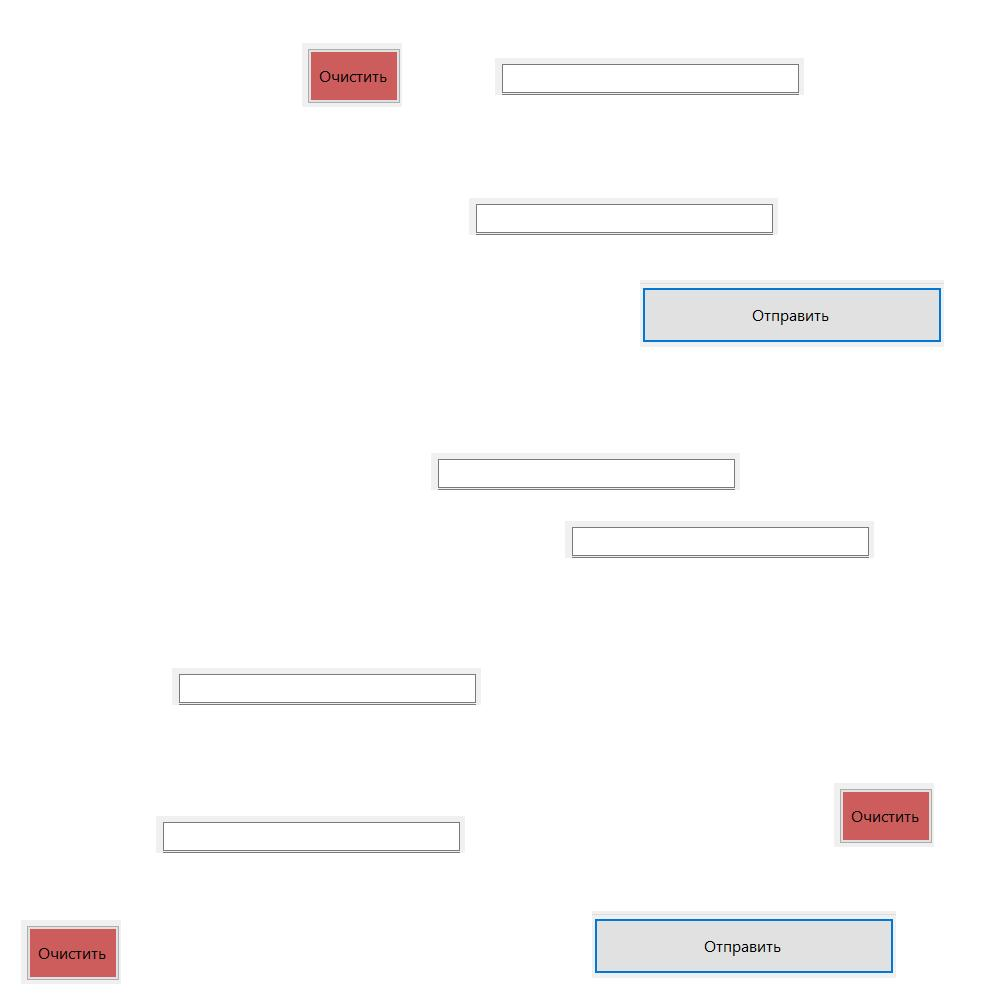Button: (640, 280, 944, 347), (592, 911, 896, 978), (302, 43, 402, 107), (834, 783, 934, 847), (21, 920, 121, 984)
EditText-: (495, 58, 804, 95), (431, 453, 740, 490), (156, 816, 465, 853), (469, 198, 778, 235), (565, 521, 874, 558), (172, 668, 481, 705)
